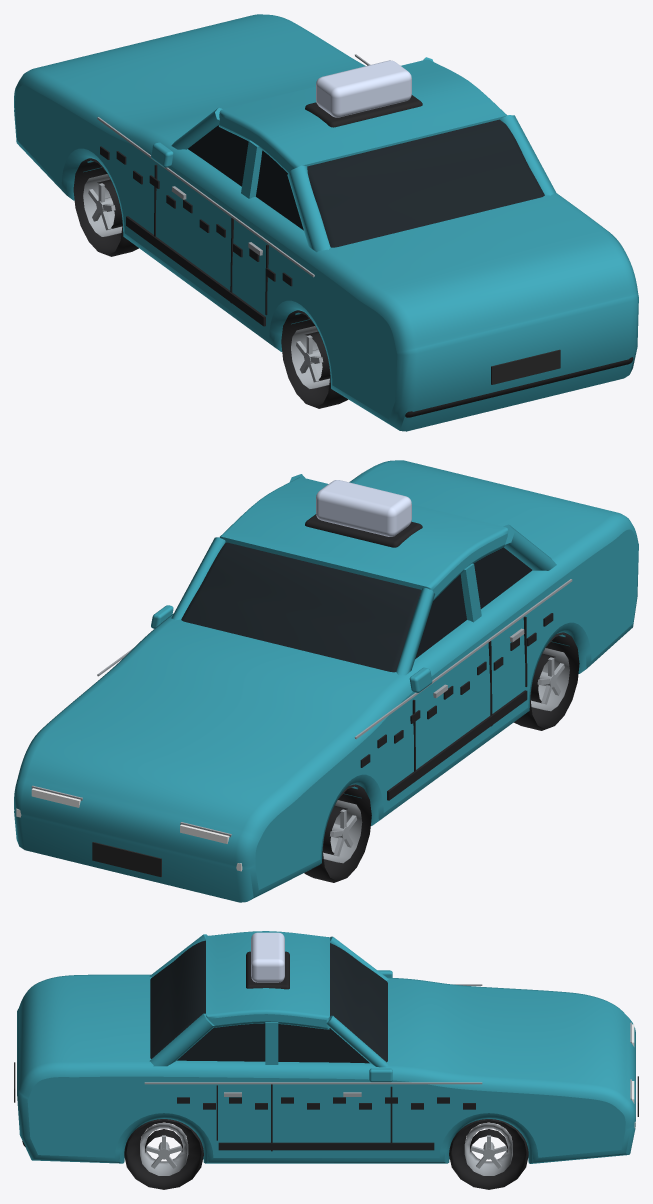
The model's file is TAXI_SH.glb.
The picture shows the model from 3 angles, top to bottom: view 1: azimuth 30°, elevation 25°; view 2: azimuth 150°, elevation 25°; view 3: azimuth 270°, elevation 25°; orthographic projection. The views are drawn at different scales.
Visible parts, largest first — view 1: carPaint_0, glass_1, tread_2, steel_3, screen_5, reflective_4; view 2: carPaint_0, glass_1, tread_2, steel_3, screen_5, reflective_4, lamps_6; view 3: carPaint_0, glass_1, tread_2, steel_3, screen_5.
Part boxes in pixels (box(x1,y1,x2,y2)): carPaint_0: box(14, 14, 638, 431); glass_1: box(188, 119, 544, 247); tread_2: box(73, 95, 633, 417); steel_3: box(83, 54, 370, 388); screen_5: box(316, 60, 411, 117); reflective_4: box(491, 349, 560, 384); carPaint_0: box(14, 460, 638, 902); glass_1: box(181, 542, 532, 672); tread_2: box(304, 514, 579, 882); steel_3: box(31, 579, 572, 863); screen_5: box(316, 480, 411, 536); reflective_4: box(92, 842, 161, 876); lamps_6: box(16, 788, 242, 871); carPaint_0: box(17, 931, 635, 1163); glass_1: box(150, 940, 387, 1063); tread_2: box(22, 951, 528, 1189); steel_3: box(140, 984, 631, 1175); screen_5: box(251, 932, 284, 982).
Bounding box in the file's own units: 1.87 × 1.68 × 4.81.
